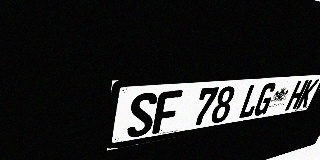7: (190, 87, 219, 127)
8: (209, 86, 238, 124)
F: (152, 90, 183, 134)
G: (252, 82, 278, 117)
H: (285, 80, 309, 111)
K: (296, 79, 319, 109)
L: (237, 84, 264, 119)
S: (126, 92, 158, 139)
